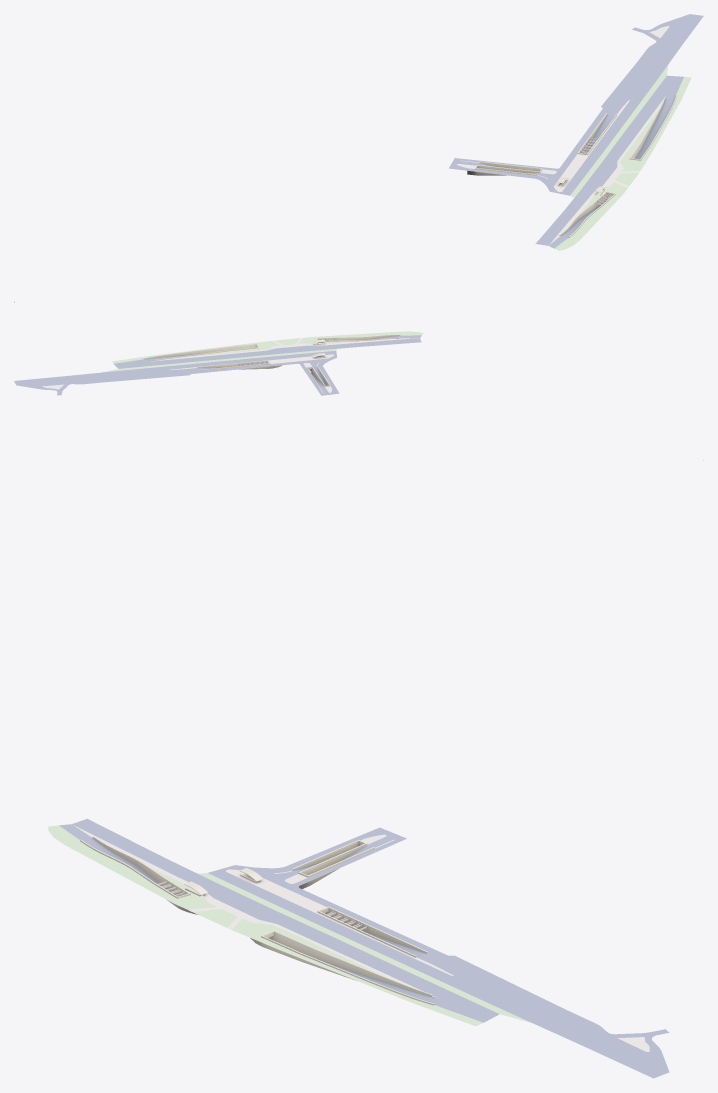
Rendered from esentai-colored.glb.
3 views of the same model, one above another, from view 1: azimuth 30°, elevation 25°; view 2: azimuth 150°, elevation 25°; view 3: azimuth 270°, elevation 25° (orthographic). The views are drawn at different scales.
Visible parts, largest first — view 1: group_16.001, group_3.001, group_1.006, group_14.001, group_14, group_8; view 2: group_16.001, group_3.001, group_1.006, group_8, group_14.001, group_14; view 3: group_16.001, group_3.001, group_1.006, group_14, group_14.001, group_8.
Part boxes in pixels (x1=…): group_16.001: x1=449, y1=14, x2=703, y2=248; group_3.001: x1=467, y1=94, x2=677, y2=237; group_1.006: x1=457, y1=26, x2=669, y2=245; group_14.001: x1=620, y1=77, x2=691, y2=171; group_14: x1=554, y1=182, x2=627, y2=250; group_8: x1=570, y1=65, x2=668, y2=197; group_16.001: x1=14, y1=335, x2=421, y2=395; group_3.001: x1=143, y1=334, x2=400, y2=387; group_1.006: x1=42, y1=338, x2=418, y2=393; group_8: x1=102, y1=348, x2=337, y2=372; group_14.001: x1=112, y1=341, x2=279, y2=363; group_14: x1=299, y1=331, x2=423, y2=344; group_16.001: x1=59, y1=818, x2=669, y2=1078; group_3.001: x1=80, y1=836, x2=434, y2=1005; group_1.006: x1=73, y1=825, x2=649, y2=1051; group_14: x1=48, y1=825, x2=216, y2=909; group_14.001: x1=232, y1=918, x2=483, y2=1026; group_8: x1=198, y1=873, x2=531, y2=1022.
Size of the model in its own units: 890 by 11 by 399.
Materials: 12 (3 with a texture image).
